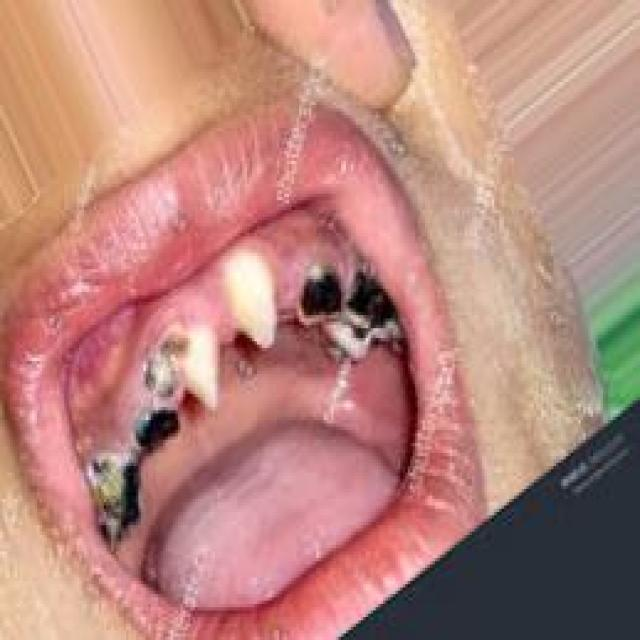caries: (337, 270, 404, 364), (290, 247, 344, 335), (92, 453, 143, 541), (138, 314, 186, 395), (133, 396, 185, 463)
